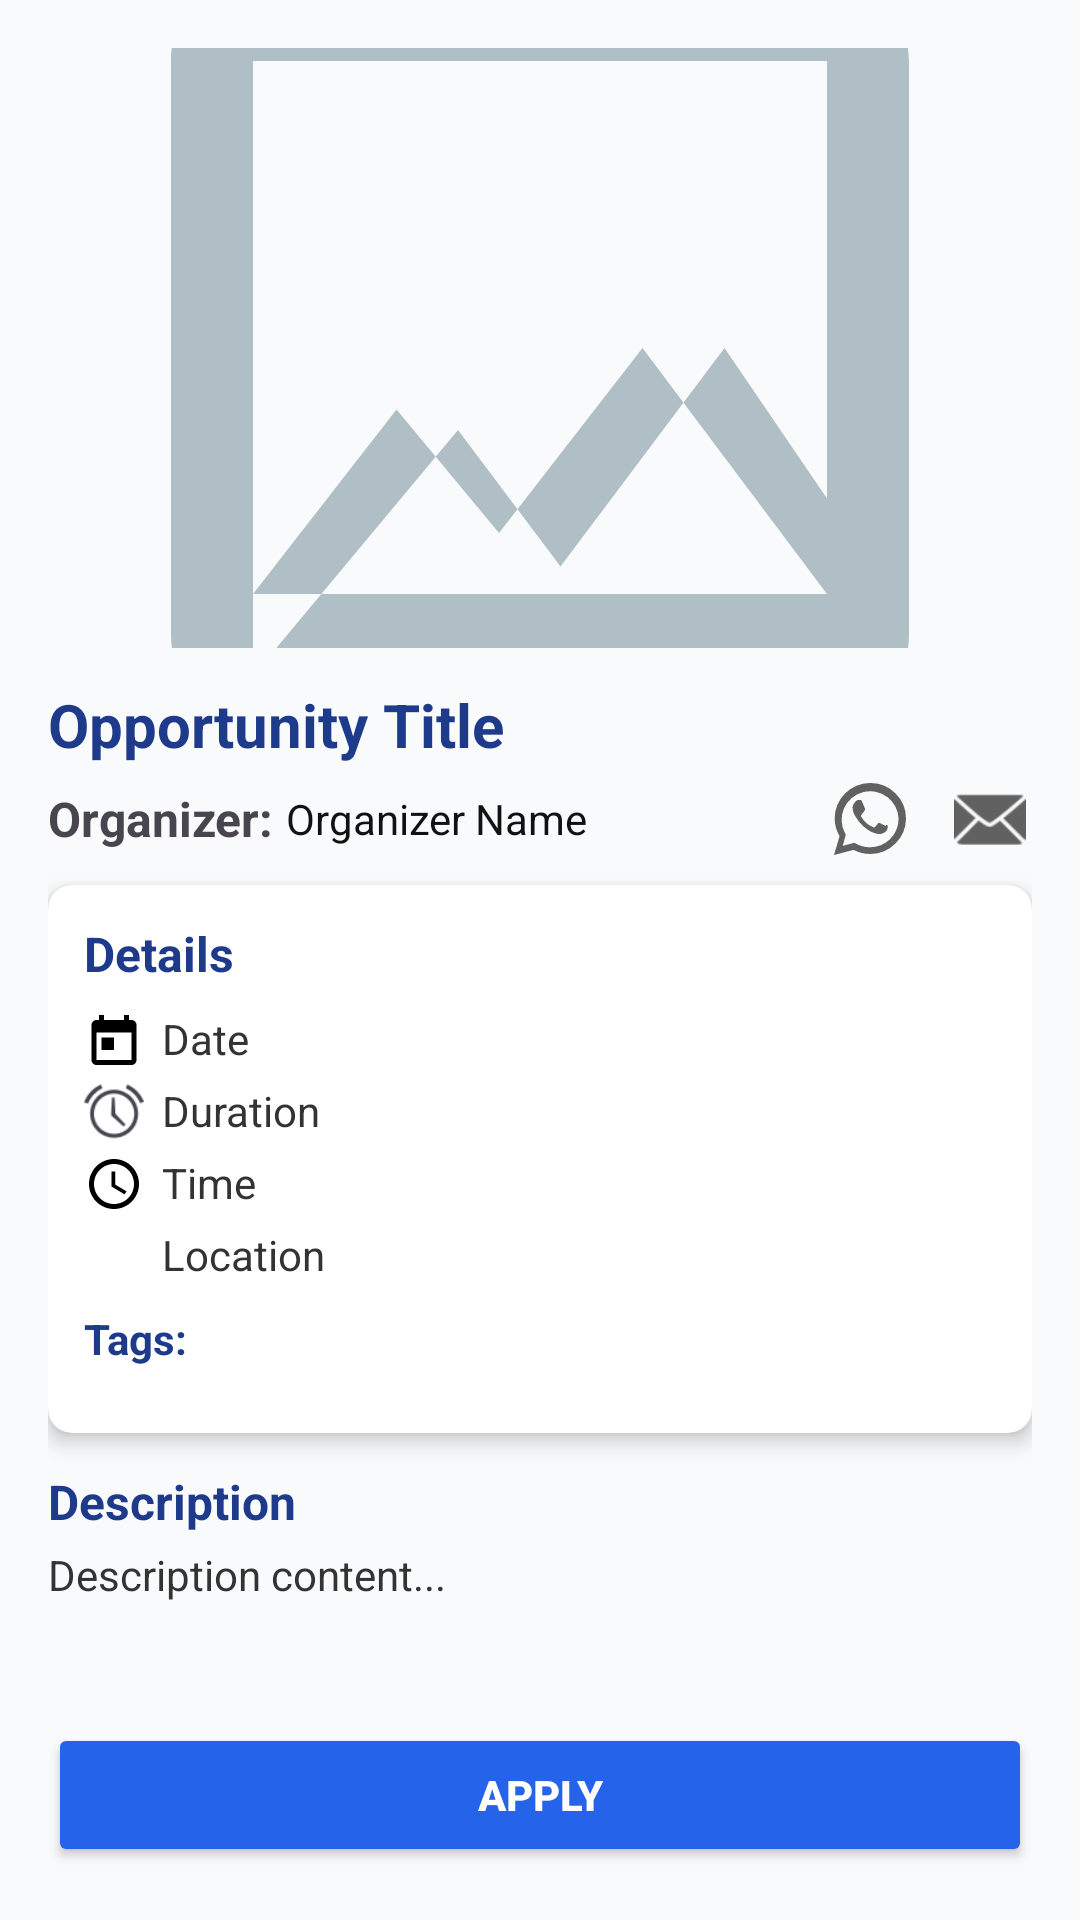

Locate icon controls on the screen. Image size 1080px x 1920px, boxes as (x1, y1, x2, y2).
calendar today: (91, 1015, 137, 1065)
email: (954, 794, 1026, 845)
lock idle alarm: (84, 1084, 144, 1139)
